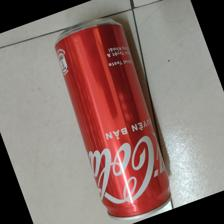Coca: (53, 17, 174, 221)
